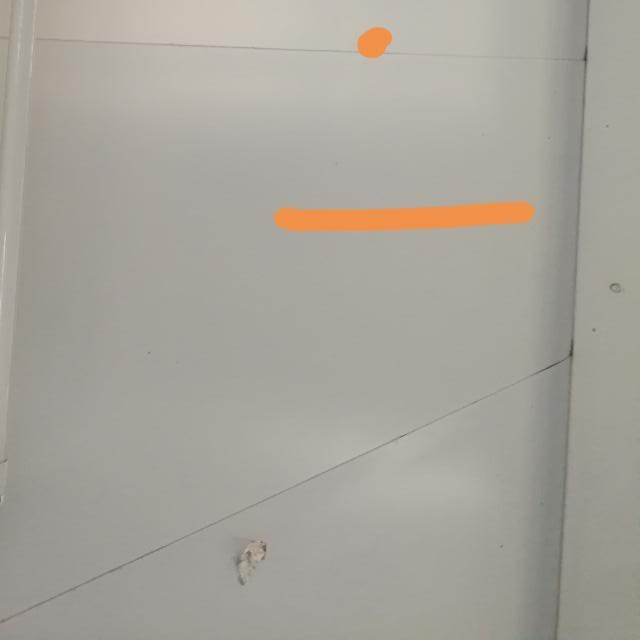fluorescent tube: (0, 0, 113, 545)
